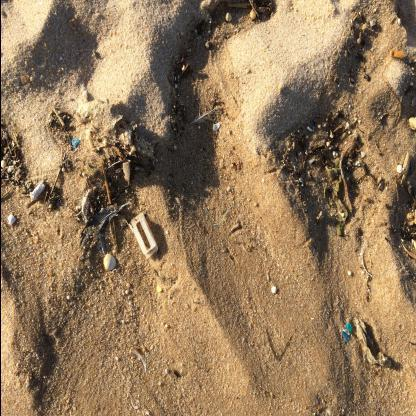plastik: (131, 214, 159, 260)
